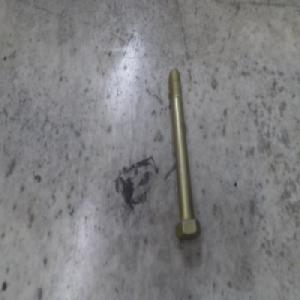Bolt: (170, 74, 205, 245)
